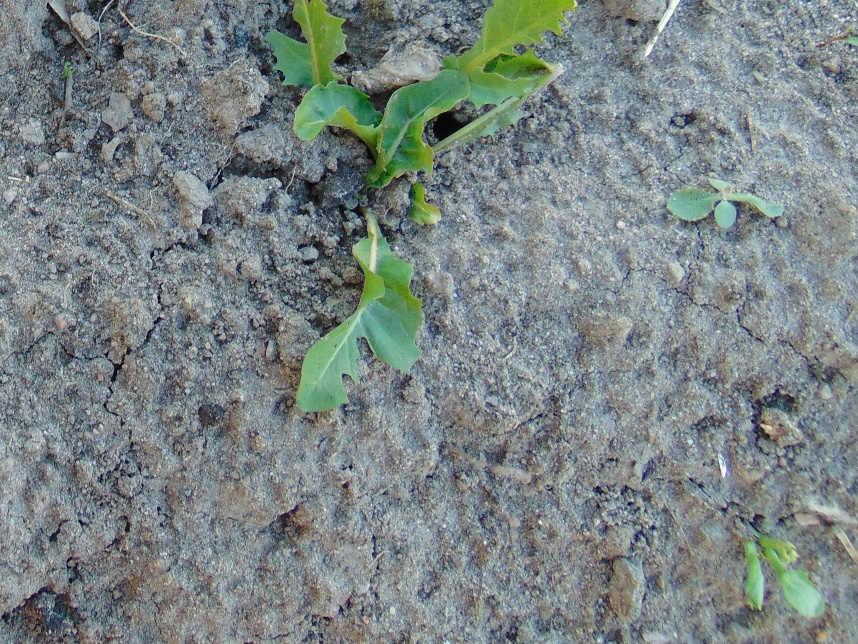crop: (731, 525, 827, 620)
weed: (296, 1, 568, 414), (666, 169, 787, 232)
